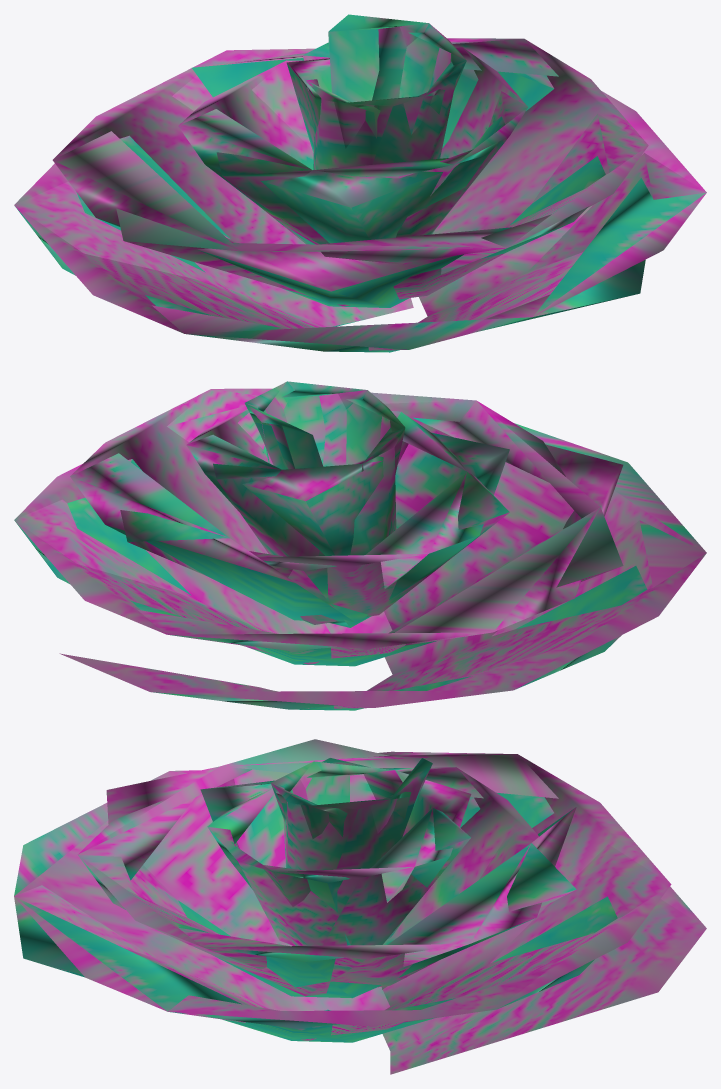
3 renders of one model, top to bottom at view 1: azimuth 30°, elevation 25°; view 2: azimuth 150°, elevation 25°; view 3: azimuth 270°, elevation 25°, orthographic.
Parts seen in each view (by area): view 1: Cube; view 2: Cube; view 3: Cube.
Part boxes in pixels (x1,y1,x2,y2): Cube: [14, 14, 706, 352]; Cube: [14, 381, 706, 710]; Cube: [14, 739, 706, 1074].
Bounding box in the file's own units: 4.96 × 2.39 × 5.17.
1 material, 1 textured.
